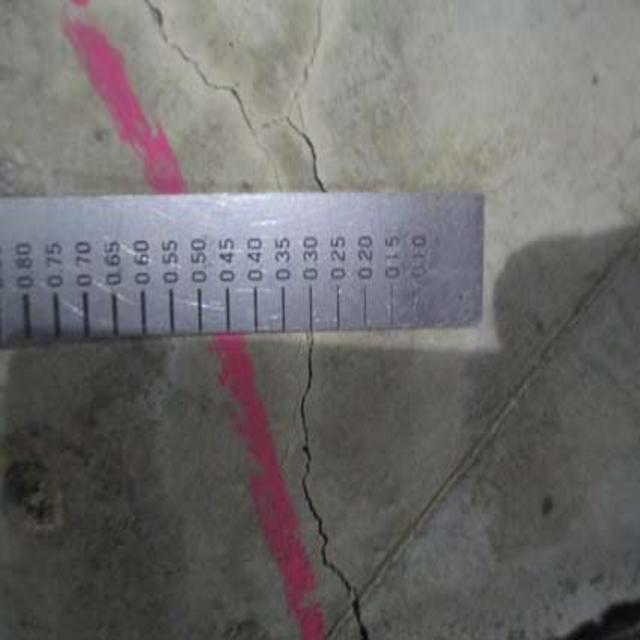crack: (269, 333, 397, 640), (136, 6, 340, 194)
